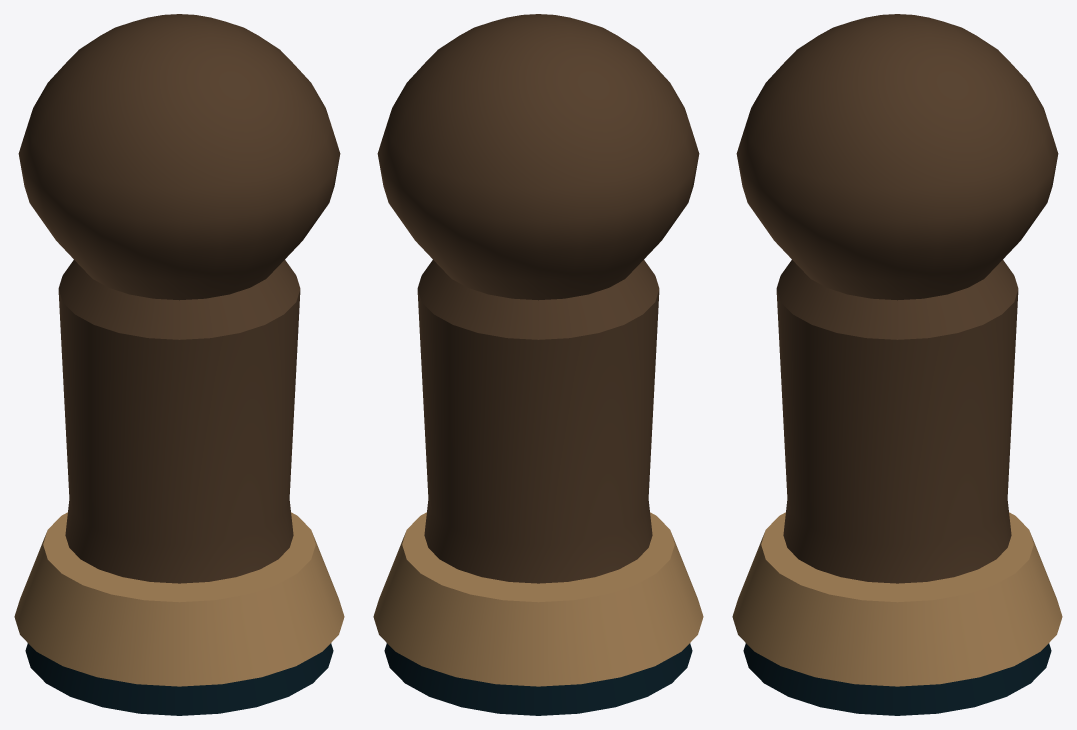
The model's file is damga5.fbx.
3 renders of one model, left to right at view 1: azimuth 30°, elevation 25°; view 2: azimuth 150°, elevation 25°; view 3: azimuth 270°, elevation 25°, orthographic.
Visible parts, largest first — view 1: damga5; view 2: damga5; view 3: damga5.
Part boxes in pixels (x1,y1,x2,y2): damga5: (14,14,344,715); damga5: (373,14,703,715); damga5: (732,14,1062,715).
Size of the model in its own units: 68.05 by 68.05 by 141.
